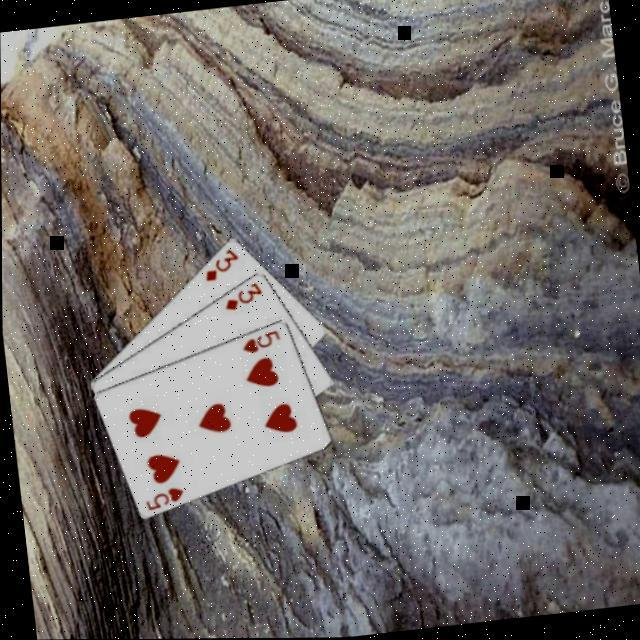3D: (197, 243, 242, 283), (218, 278, 264, 312)
5H: (140, 482, 186, 512), (236, 326, 282, 354)
